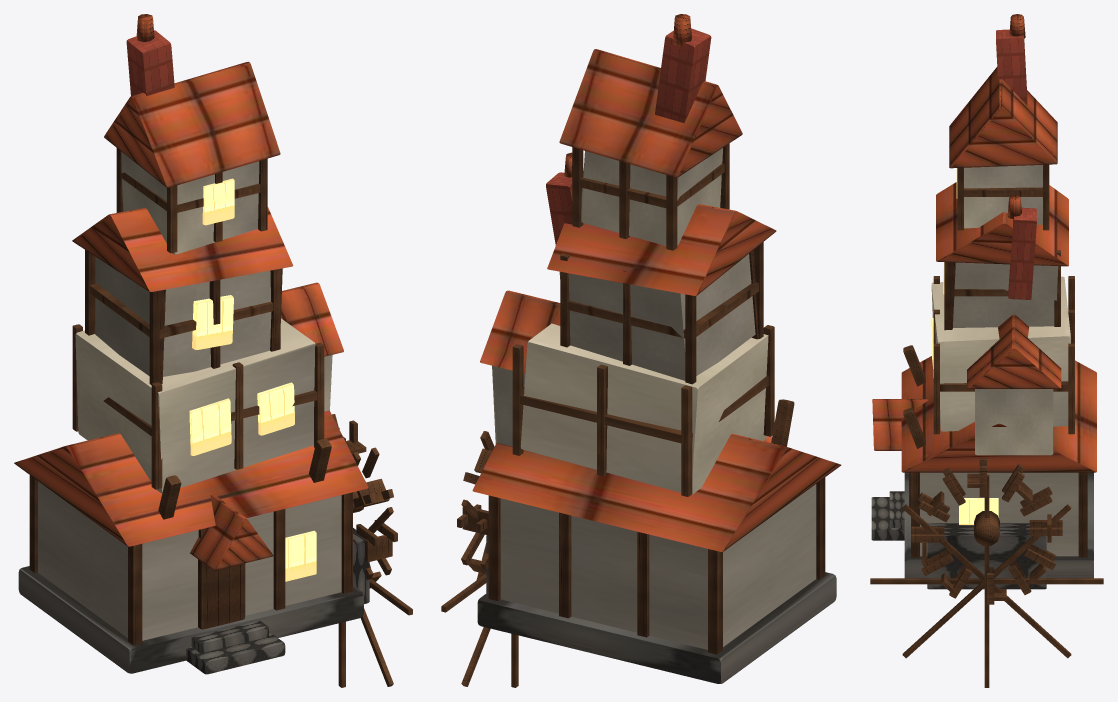
File: env_burrow_house.glb
The picture shows the model from 3 angles, left to right: view 1: azimuth 30°, elevation 25°; view 2: azimuth 150°, elevation 25°; view 3: azimuth 270°, elevation 25°; orthographic projection. The views are drawn at different scales.
Parts seen in each view (by area): view 1: B_T1, B_T2, B_Roof1, B_CrownRoof, B_T3, B_Roof3, B_Found, B_T4, B_PorchRoof, B_Door, B_SideRoof, B_Chim1 (+26 smaller); view 2: B_T1, B_T2, B_Roof1, B_CrownRoof, B_Found, B_T3, B_Roof3, B_T4, B_Chim1, B_SideRoof, B_TimberBand, B_TimberBand.001 (+20 smaller); view 3: B_Roof1, B_CrownRoof, B_T2, B_Roof3, B_T1, B_SideBay, B_T3, B_SideRoof, B_MillWall, B_T4, B_Found, B_Chim2 (+26 smaller).
Part boxes in pixels (x1,y1,x2,y2): B_T1: [38, 481, 341, 640]; B_T2: [75, 318, 315, 492]; B_Roof1: [14, 410, 368, 546]; B_CrownRoof: [104, 61, 280, 187]; B_T3: [94, 256, 271, 376]; B_Roof3: [72, 207, 292, 291]; B_Found: [18, 566, 363, 673]; B_T4: [121, 151, 259, 254]; B_PorchRoof: [190, 494, 273, 570]; B_Door: [198, 559, 245, 629]; B_SideRoof: [281, 282, 343, 356]; B_Chim1: [126, 30, 174, 96]; B_T1: [500, 484, 816, 649]; B_T2: [520, 323, 768, 494]; B_Roof1: [472, 433, 841, 551]; B_CrownRoof: [559, 49, 742, 177]; B_Found: [477, 572, 836, 683]; B_T3: [559, 254, 755, 380]; B_Roof3: [547, 204, 776, 295]; B_T4: [581, 148, 722, 245]; B_Chim1: [655, 28, 711, 123]; B_SideRoof: [480, 290, 560, 373]; B_TimberBand: [520, 376, 769, 443]; B_TimberBand.001: [567, 282, 758, 338]; B_Roof1: [901, 356, 1096, 472]; B_CrownRoof: [949, 67, 1057, 168]; B_T2: [931, 276, 1070, 431]; B_Roof3: [936, 182, 1068, 266]; B_T1: [920, 472, 1078, 556]; B_SideBay: [975, 389, 1053, 455]; B_T3: [953, 262, 1058, 327]; B_SideRoof: [967, 314, 1061, 388]; B_MillWall: [927, 523, 1046, 589]; B_T4: [964, 165, 1042, 228]; B_Found: [904, 472, 1093, 578]; B_Chim2: [1008, 207, 1036, 299].
Bounding box in the file's own units: 3.4 × 8 × 2.84.
6 materials, 6 textured.
